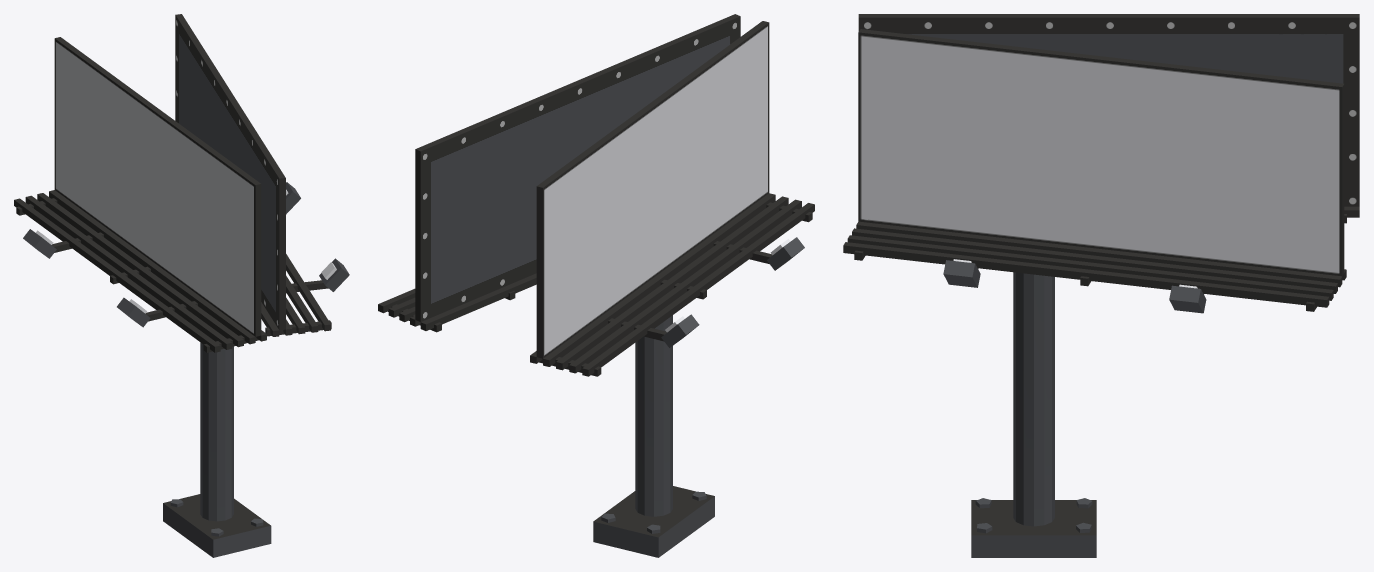
The model's file is billboard.glb.
The picture shows the model from 3 angles, left to right: view 1: azimuth 30°, elevation 25°; view 2: azimuth 150°, elevation 25°; view 3: azimuth 270°, elevation 25°; orthographic projection. The views are drawn at different scales.
Visible parts, largest first — view 1: b, a, c; view 2: b, a, c; view 3: a, b, c.
Boxes of the visible parts, left/top/right/bottom form: b: left=14, top=37, right=266, bottom=352; a: left=175, top=14, right=349, bottom=336; c: left=163, top=342, right=271, bottom=557; b: left=530, top=21, right=814, bottom=376; a: left=378, top=14, right=740, bottom=332; c: left=593, top=315, right=714, bottom=557; a: left=843, top=29, right=1346, bottom=313; b: left=858, top=14, right=1359, bottom=223; c: left=971, top=272, right=1096, bottom=557.
Bounding box in the file's own units: 440 × 670 × 618.
1 material, 1 textured.
